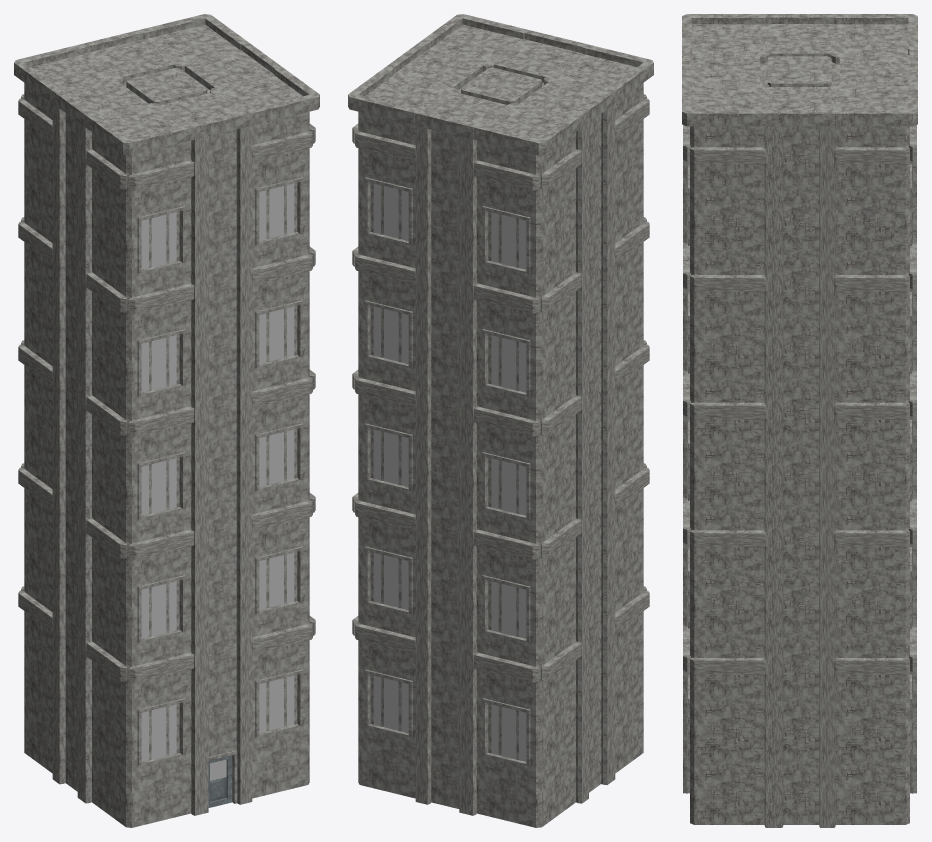
The model's file is City Building A Purple.fbx.
3 renders of one model, left to right at view 1: azimuth 30°, elevation 25°; view 2: azimuth 150°, elevation 25°; view 3: azimuth 270°, elevation 25°, orthographic. The views are drawn at different scales.
Visible parts, largest first — view 1: mergedBlocks; view 2: mergedBlocks; view 3: mergedBlocks.
Boxes of the visible parts, x1,y1,x2,y2 form: mergedBlocks: (14, 14, 319, 827); mergedBlocks: (348, 14, 653, 827); mergedBlocks: (682, 14, 917, 827).
Size of the model in its own units: 33.5 by 112 by 33.5.
Materials: 5 (4 with a texture image).
